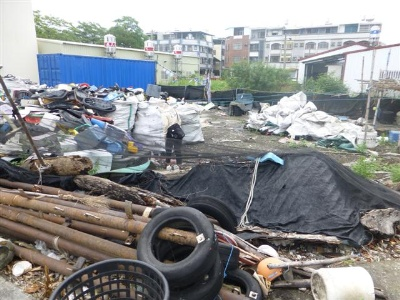bucket: (307, 265, 376, 300)
plastic_bag: (246, 92, 362, 140), (135, 98, 183, 152)
tire: (136, 205, 218, 287)
